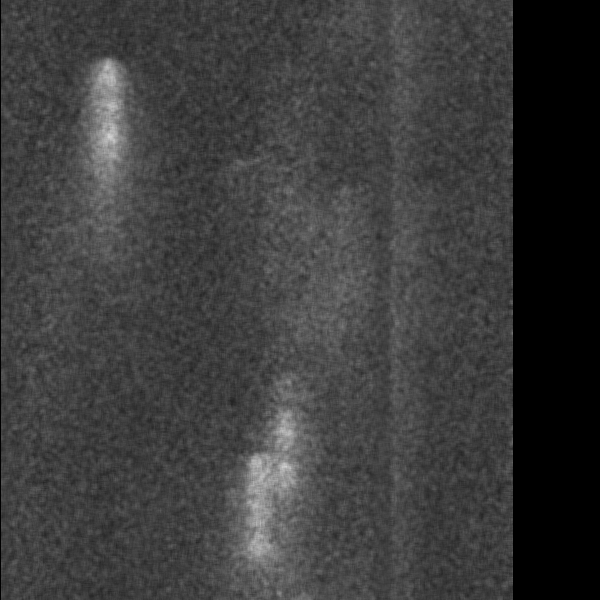spark: (235, 379, 325, 582), (86, 50, 132, 345)
